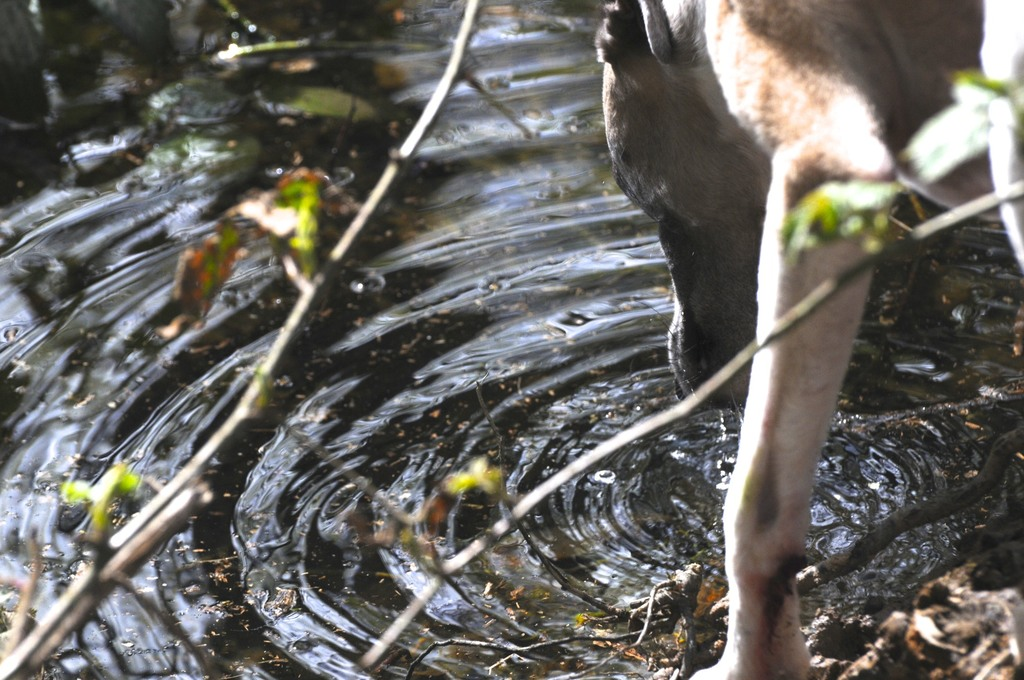Animal: (597, 0, 1022, 408)
